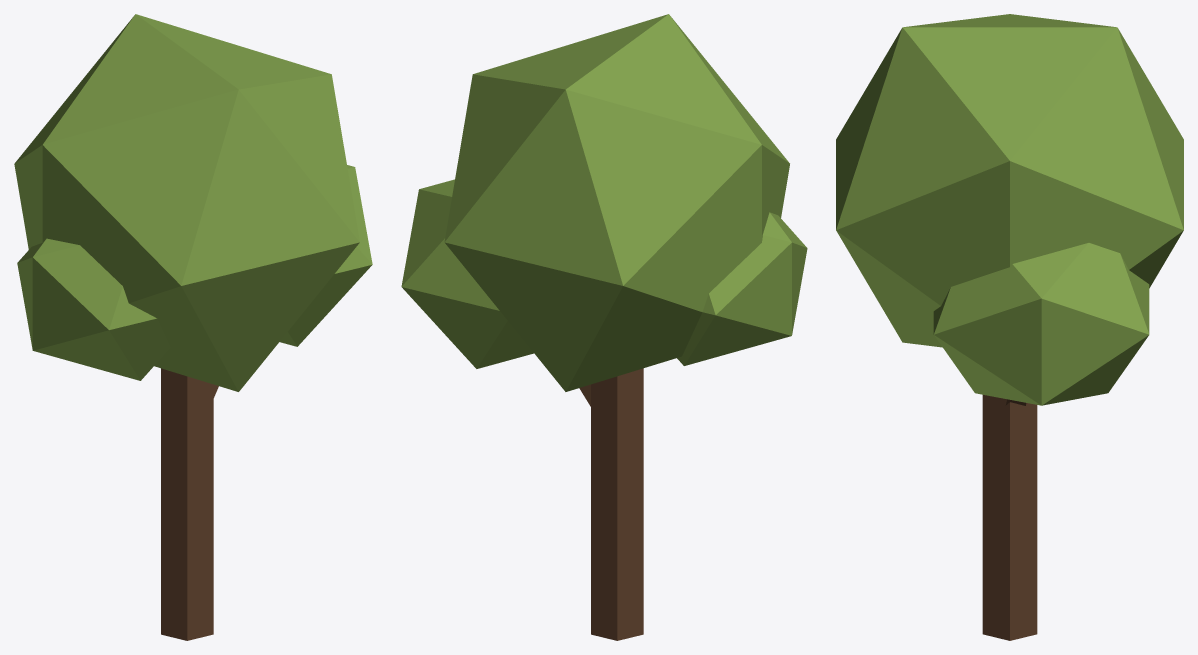
The model's file is Agac_yuvarlak_1_Hafif.fbx.
3 views of the same model, side by side, from view 1: azimuth 30°, elevation 25°; view 2: azimuth 150°, elevation 25°; view 3: azimuth 270°, elevation 25° (orthographic). The views are drawn at different scales.
Parts seen in each view (by area): view 1: Agac_yuvarlak_1_Hafif; view 2: Agac_yuvarlak_1_Hafif; view 3: Agac_yuvarlak_1_Hafif.
Boxes of the visible parts, bbox=[...] form: Agac_yuvarlak_1_Hafif: bbox=[14, 14, 372, 640]; Agac_yuvarlak_1_Hafif: bbox=[401, 14, 807, 640]; Agac_yuvarlak_1_Hafif: bbox=[836, 14, 1183, 640].
Size of the model in its own units: 1.98 by 3.14 by 1.65.
